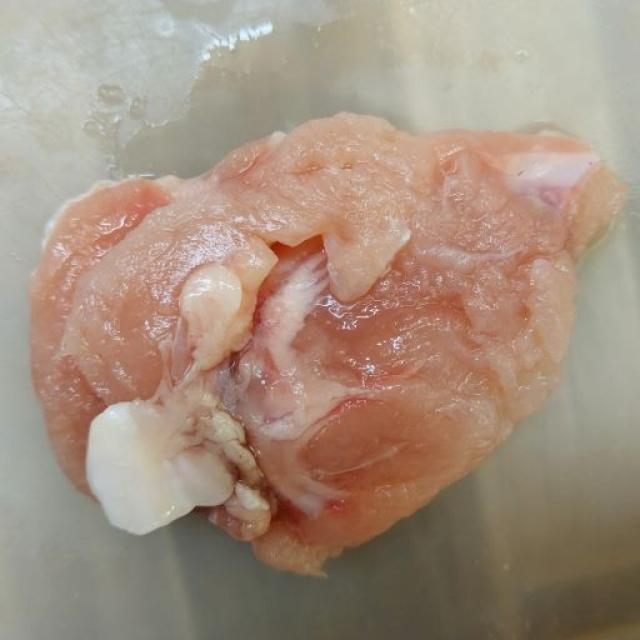chicken: (22, 112, 627, 583)
